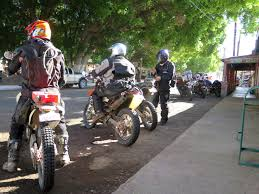helmet: (21, 17, 57, 42), (106, 40, 128, 58), (153, 47, 172, 65)
